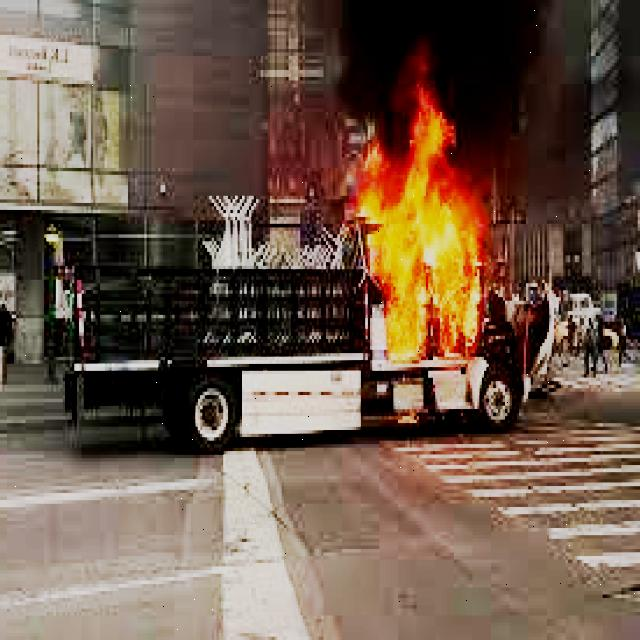api: (351, 103, 497, 376)
